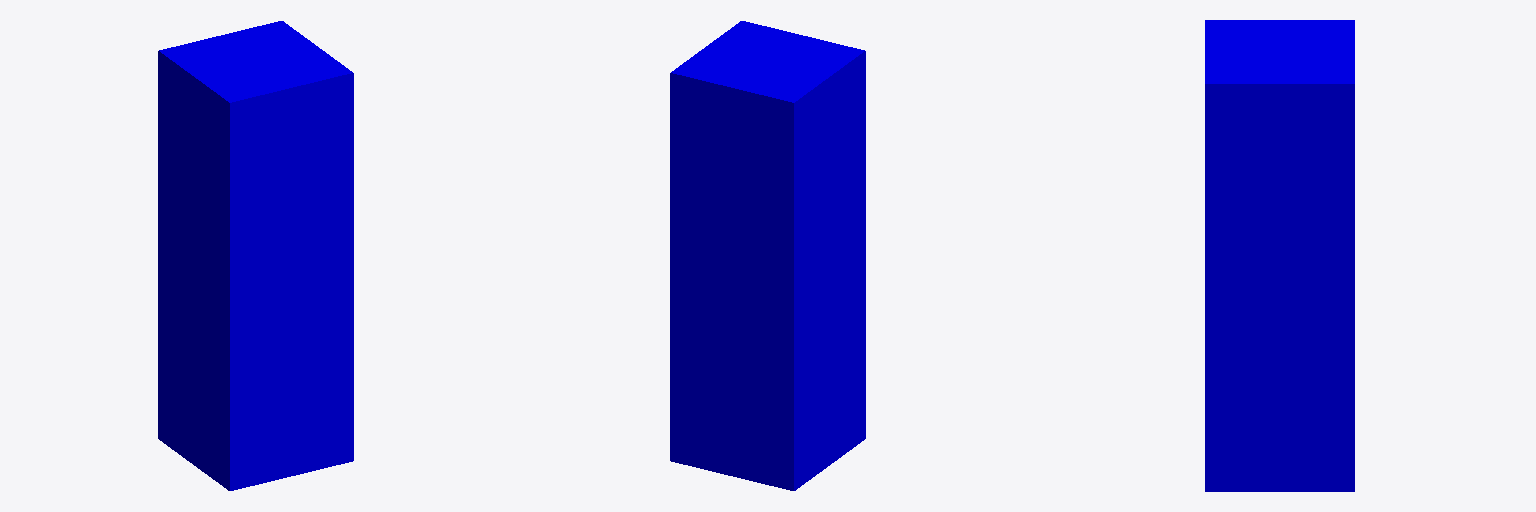
URDF robot description (building):
<?xml version="1.0" ?>

<robot name="building">

  <link name="base_link"> 

    <inertial>
      <origin rpy="0 0 0" xyz="0 0 0"/>
      <mass value="0.3"/>
      <inertia ixx="0" ixy="0.0" ixz="0.0" iyy="0" iyz="0.0" izz="0"/>
    </inertial>

    <visual>
      <origin rpy="0 0 0" xyz="0 0 0"/>
      <geometry>
        <box size=".5 .5 1.5" />
      </geometry> 
      <material name="blue">
        <color rgba="0. 0. 1. 0.7"/>
      </material> 
    </visual>

    <collision>
      <origin rpy="0 0 0" xyz="0 0 0"/>
      <geometry>
        <box size=".5 .5 1.5" />
      </geometry>
    </collision>  

  </link>

</robot>

--- Facts derived from the render (not from the file) ---
Views: 3 orthographic renders of the robot side by side, from view 1: azimuth 30°, elevation 25°; view 2: azimuth 150°, elevation 25°; view 3: azimuth 270°, elevation 25°.
Robot: building — 1 links, 0 joints (none); root link base_link; default pose: every joint at zero.
Links seen in each view (by area): view 1: base_link; view 2: base_link; view 3: base_link.
Link boxes in pixels (<box>): base_link: <box>158,21,353,490</box>; base_link: <box>670,21,865,490</box>; base_link: <box>1205,20,1354,491</box>.
Bounding box of the posed robot: 0.5 × 0.5 × 1.5 m (x, y, z).
Geometry: primitives only (box / cylinder / sphere), no mesh files.